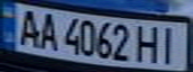0: (78, 17, 96, 57)
2: (112, 20, 136, 63)
4: (60, 16, 81, 55)
6: (93, 19, 115, 61)
A: (12, 7, 42, 47), (33, 10, 60, 51)
H: (133, 22, 163, 64)
I: (154, 24, 184, 65)
